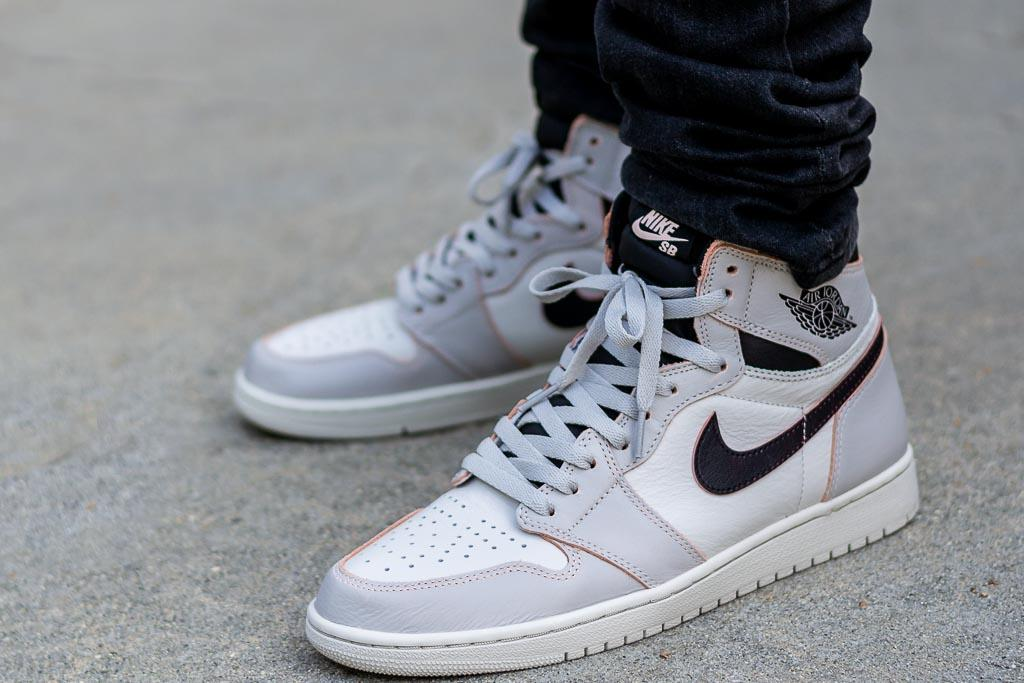Jordan 1: (299, 184, 933, 680)
